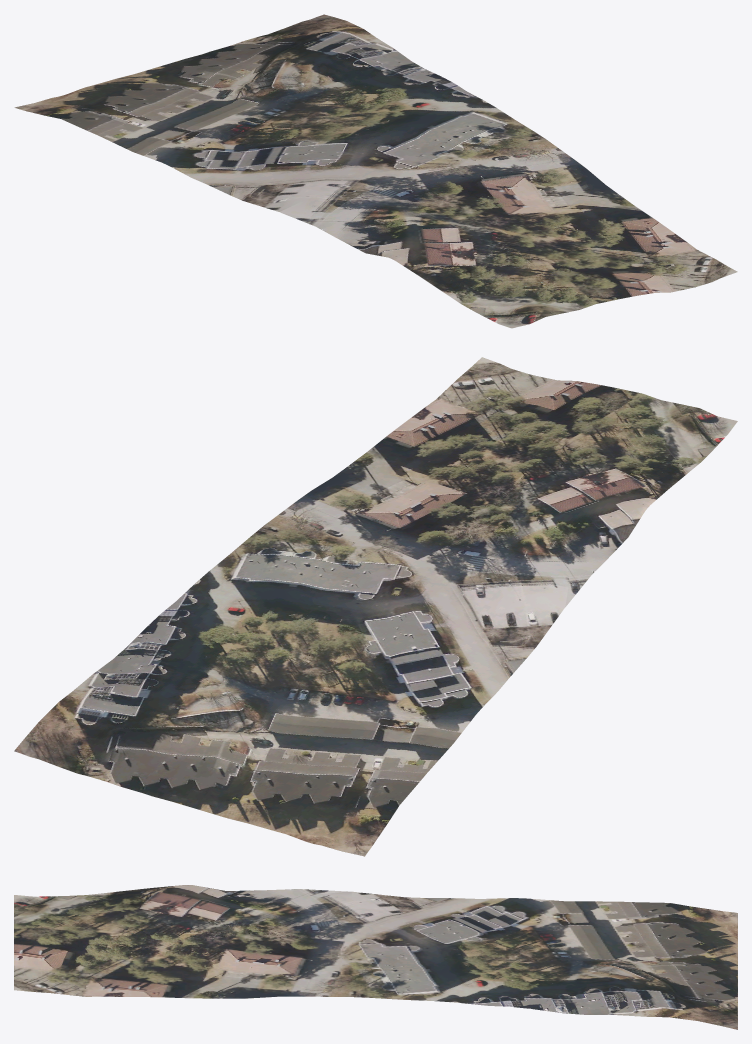
Rendered from CM_Terrain_24485749_6821432.fbx.
3 renders of one model, top to bottom at view 1: azimuth 30°, elevation 25°; view 2: azimuth 150°, elevation 25°; view 3: azimuth 270°, elevation 25°, orthographic. The views are drawn at different scales.
Parts seen in each view (by area): view 1: CM_Terrain_24485749_6821432_LOD0; view 2: CM_Terrain_24485749_6821432_LOD0; view 3: CM_Terrain_24485749_6821432_LOD0.
Boxes of the visible parts, left/top/right/bottom form: CM_Terrain_24485749_6821432_LOD0: left=14, top=14, right=737, bottom=328; CM_Terrain_24485749_6821432_LOD0: left=14, top=357, right=737, bottom=856; CM_Terrain_24485749_6821432_LOD0: left=14, top=885, right=737, bottom=1029.
Size of what is drawn, in the model's own units: 88.62 by 18.07 by 205.
